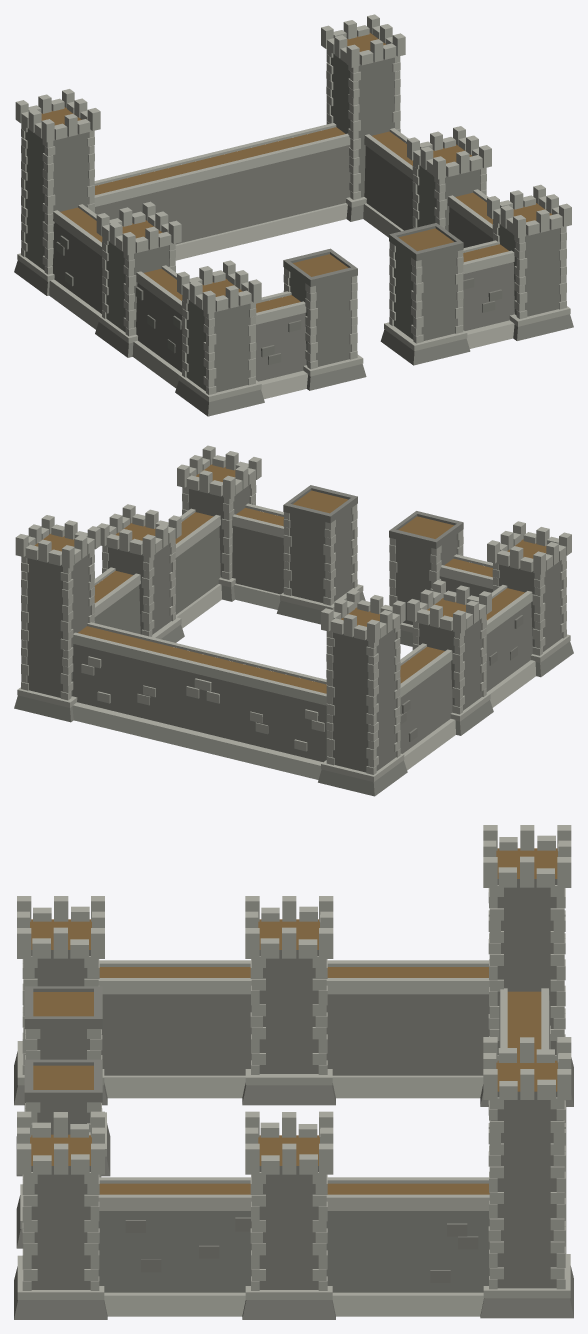
Rendered from castle.glb.
The picture shows the model from 3 angles, top to bottom: view 1: azimuth 30°, elevation 25°; view 2: azimuth 150°, elevation 25°; view 3: azimuth 270°, elevation 25°; orthographic projection. The views are drawn at different scales.
Visible parts, largest first — view 1: WonderWalls_SecondAge; view 2: WonderWalls_SecondAge; view 3: WonderWalls_SecondAge.
Boxes of the visible parts, x1,y1,x2,y2 form: WonderWalls_SecondAge: [14, 14, 573, 416]; WonderWalls_SecondAge: [14, 445, 573, 796]; WonderWalls_SecondAge: [14, 825, 573, 1319].
Size of the model in its own units: 2.1 by 0.9369 by 1.96.
